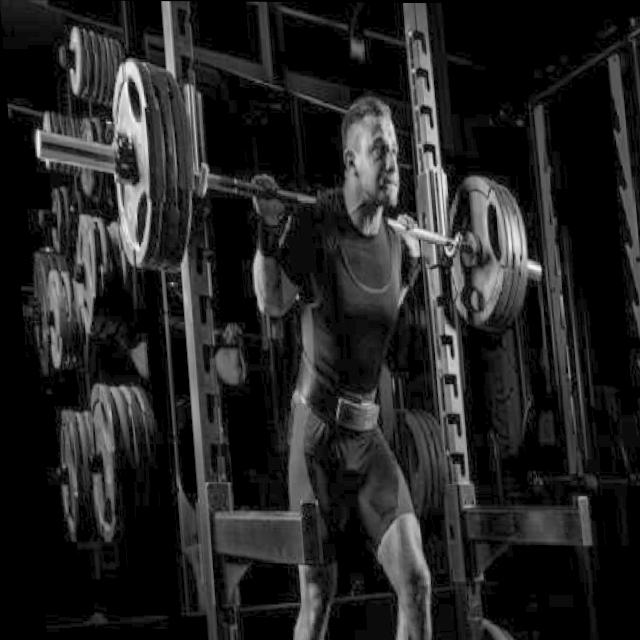barbell: (24, 53, 160, 276)
